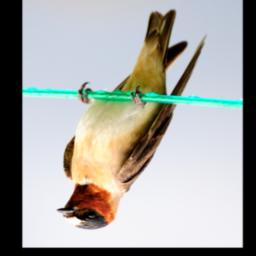Swallow: (56, 8, 207, 231)
